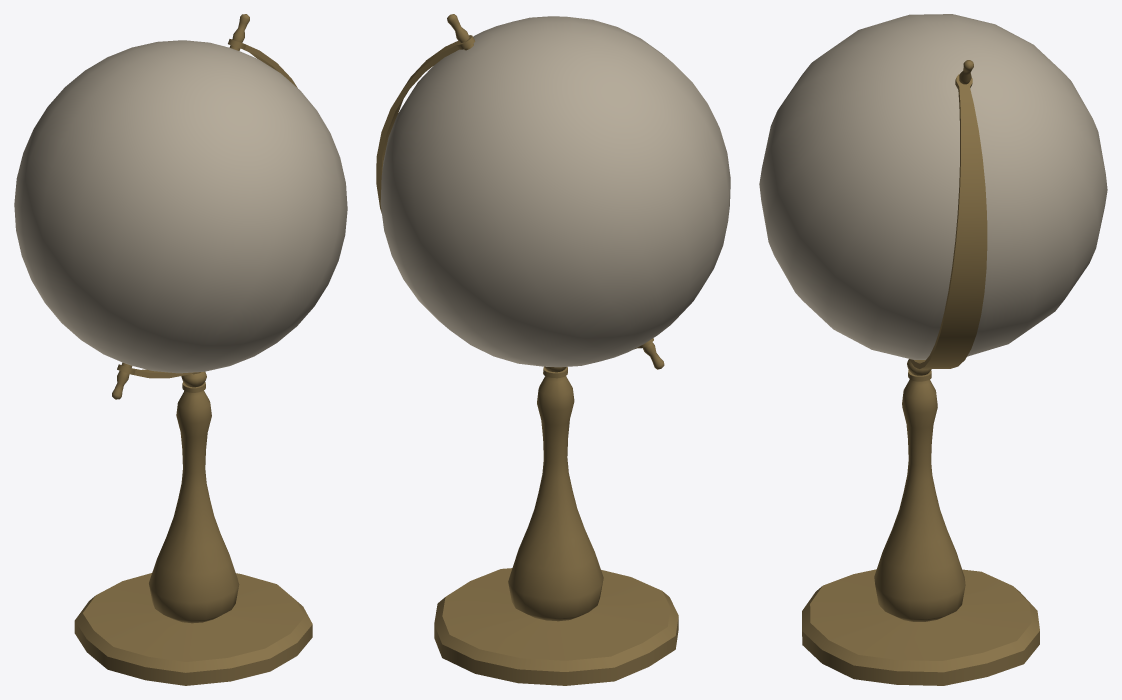
The model's file is misk_Globe.fbx.
3 renders of one model, left to right at view 1: azimuth 30°, elevation 25°; view 2: azimuth 150°, elevation 25°; view 3: azimuth 270°, elevation 25°, orthographic. The views are drawn at different scales.
Visible parts, largest first — view 1: globe_mesh; view 2: globe_mesh; view 3: globe_mesh.
Part boxes in pixels (box(x1,y1,x2,y2)): globe_mesh: box(14, 14, 347, 685); globe_mesh: box(376, 14, 730, 685); globe_mesh: box(759, 14, 1107, 685).
Size of the model in its own units: 0.641 by 1.22 by 0.6285.
